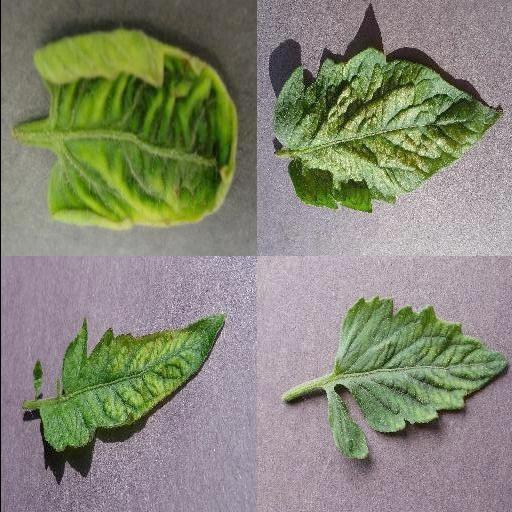Mosaic Virus: (37, 313, 227, 453), (335, 297, 509, 433)
Spider Mites: (272, 50, 504, 212)
Yellow Leaf Curl Virus: (29, 29, 239, 230)
